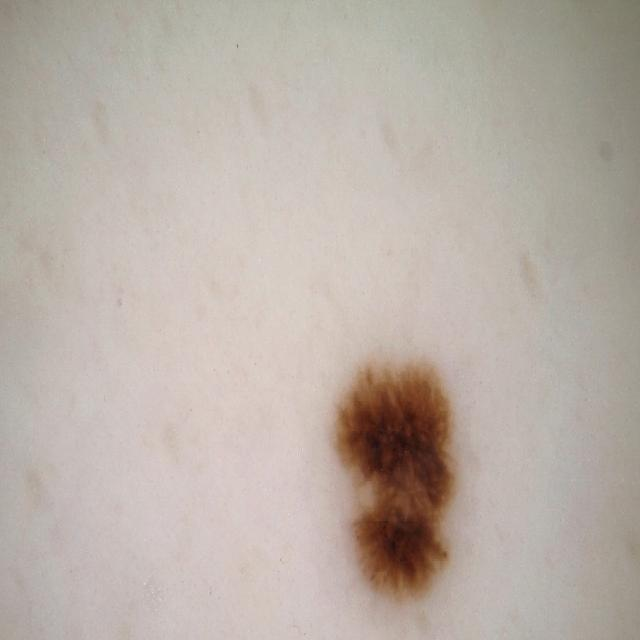Melanoma: (308, 300, 511, 640)
